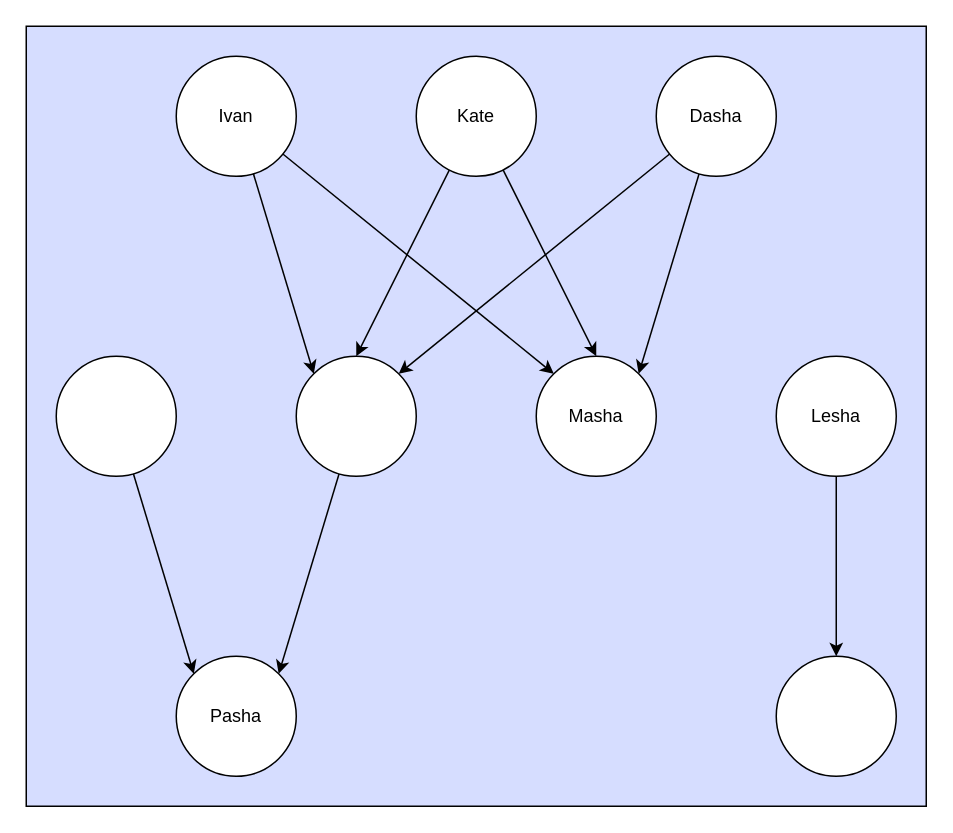
Image size: 953x833. Some labels were removed from this diagram. The box of each missing label's shape, as (x1, y1, x2, y2) in pixels:
Kolya: (295, 355, 416, 476)
Sasha: (55, 355, 176, 476)
Vasya: (775, 655, 896, 776)
